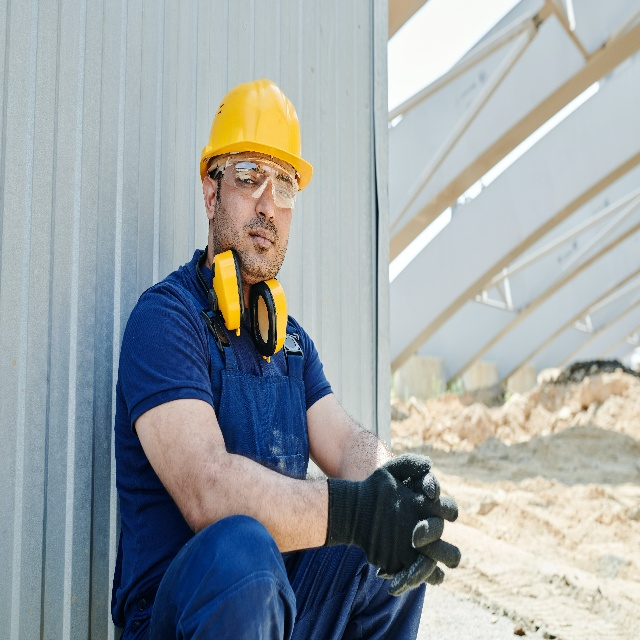Gafas: (213, 161, 298, 212)
Guantes: (329, 452, 470, 592)
